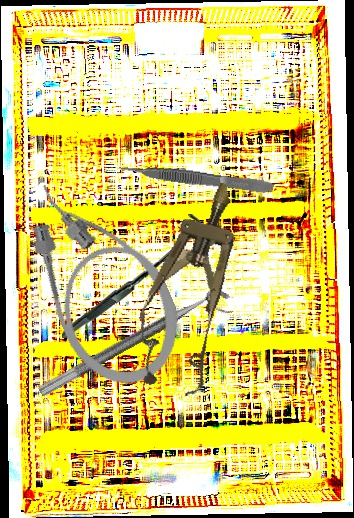Cannula: (8, 156, 198, 402)
Fixation Ring: (37, 283, 237, 413)
Hook Surgical: (61, 209, 201, 343)
Speculum: (121, 171, 265, 401)
Tissue Forceps: (117, 159, 275, 196)
